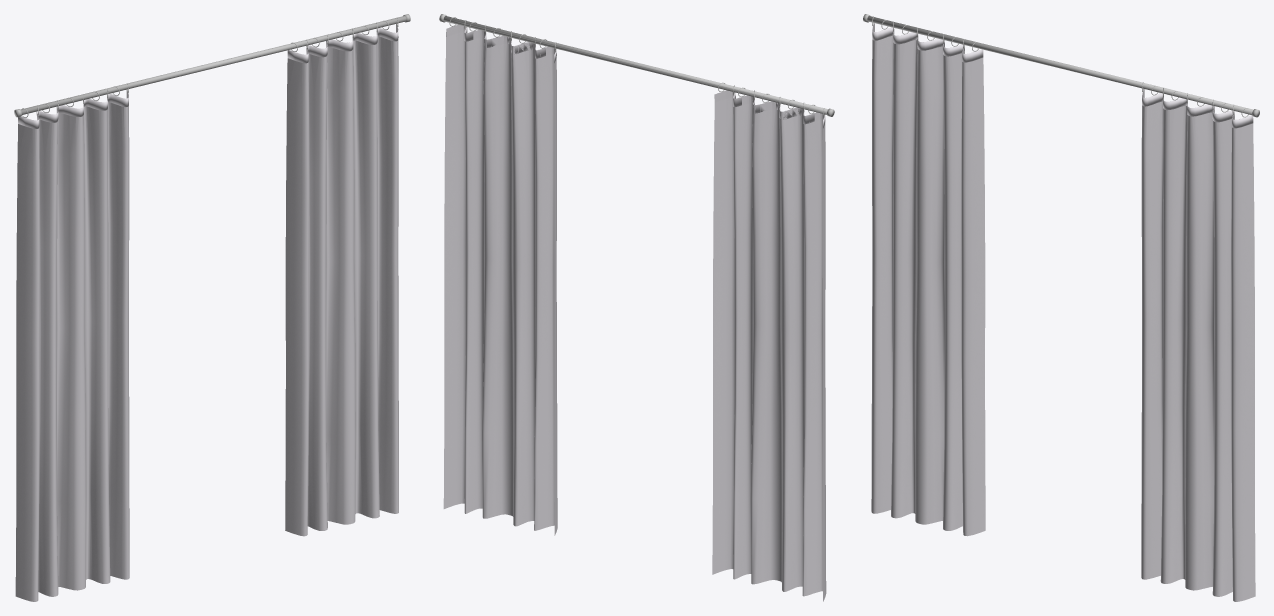
Rendered from tenda.glb.
3 renders of one model, left to right at view 1: azimuth 30°, elevation 25°; view 2: azimuth 150°, elevation 25°; view 3: azimuth 330°, elevation 25°, orthographic.
Bounding box in the file's own units: 2.42 × 2.9 × 0.1228.
Materials: 4 (1 with a texture image).
